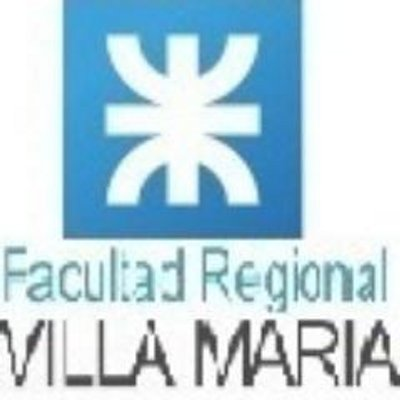utn: (104, 32, 260, 206)
